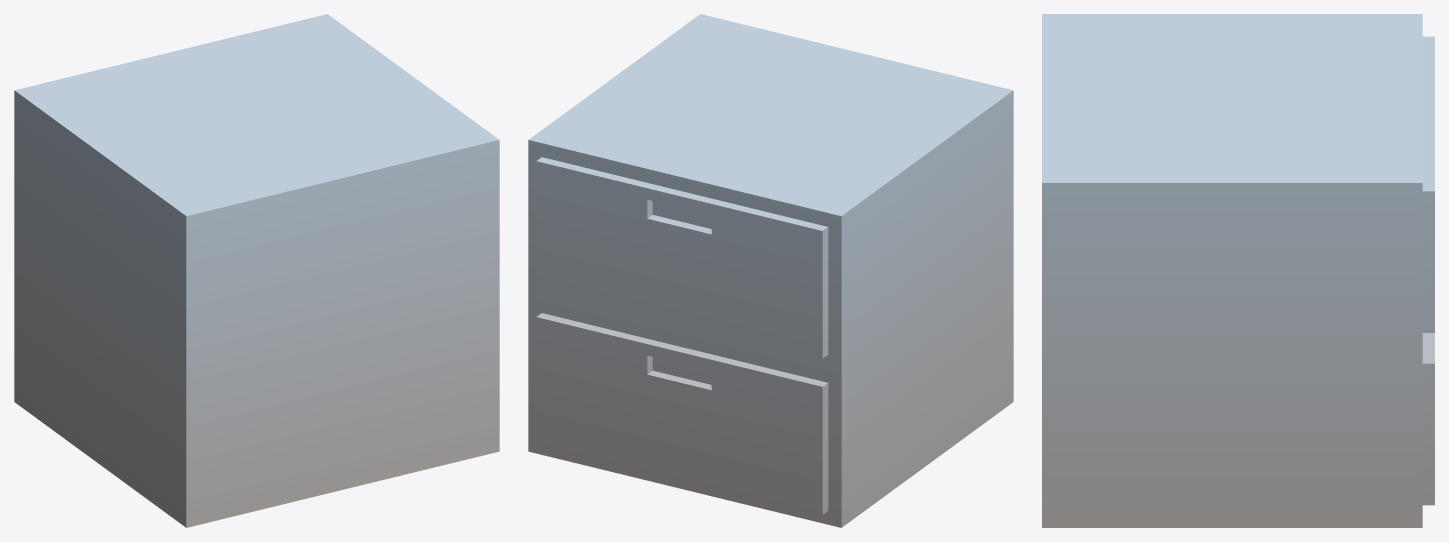
The model's file is SM_prop_Stage1_BedDesk.fbx.
The picture shows the model from 3 angles, left to right: view 1: azimuth 30°, elevation 25°; view 2: azimuth 150°, elevation 25°; view 3: azimuth 270°, elevation 25°; orthographic projection. The views are drawn at different scales.
Parts seen in each view (by area): view 1: SM_prop_Stage1_BedDesk; view 2: SM_prop_Stage1_BedDesk; view 3: SM_prop_Stage1_BedDesk.
Boxes of the visible parts, x1=… form: SM_prop_Stage1_BedDesk: x1=14, y1=14, x2=499, y2=527; SM_prop_Stage1_BedDesk: x1=528, y1=14, x2=1013, y2=527; SM_prop_Stage1_BedDesk: x1=1042, y1=14, x2=1434, y2=527.
Size of the model in its own units: 49.34 by 46.94 by 48.47.
Materials: 1 (1 with a texture image).
